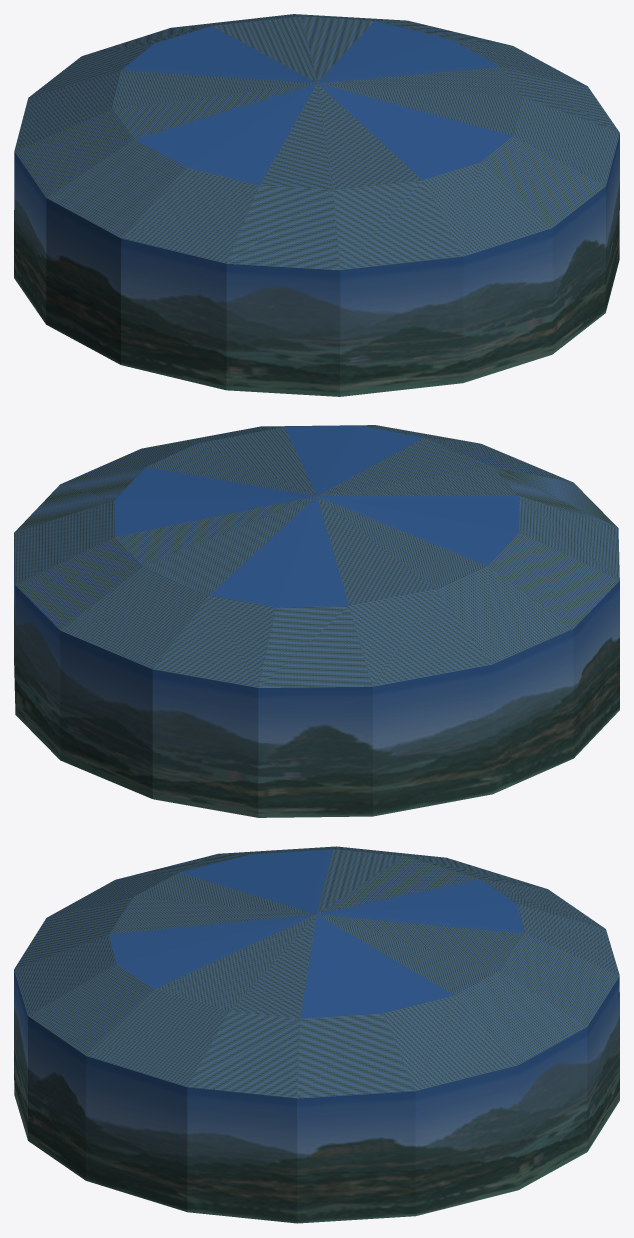
Rendered from japanese_town.glb.
3 renders of one model, top to bottom at view 1: azimuth 30°, elevation 25°; view 2: azimuth 150°, elevation 25°; view 3: azimuth 270°, elevation 25°, orthographic. The views are drawn at different scales.
Parts seen in each view (by area): view 1: enkei; view 2: enkei; view 3: enkei.
Part boxes in pixels (left/top/right/bottom): enkei: left=14, top=14, right=619, bottom=396; enkei: left=14, top=425, right=619, bottom=817; enkei: left=14, top=846, right=619, bottom=1223.
Bounding box in the file's own units: 4.91 × 1.89 × 5.01.
34 materials, 33 textured.
